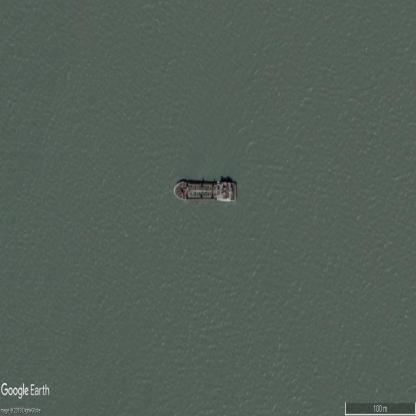ship: (175, 177, 238, 206)
